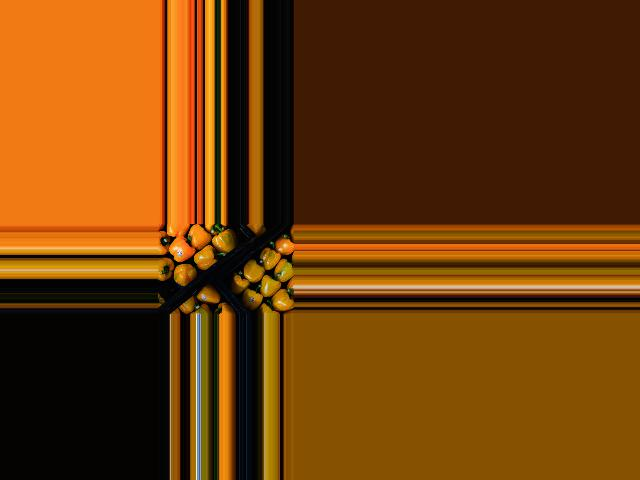bell_pepper: (266, 291, 293, 315)
